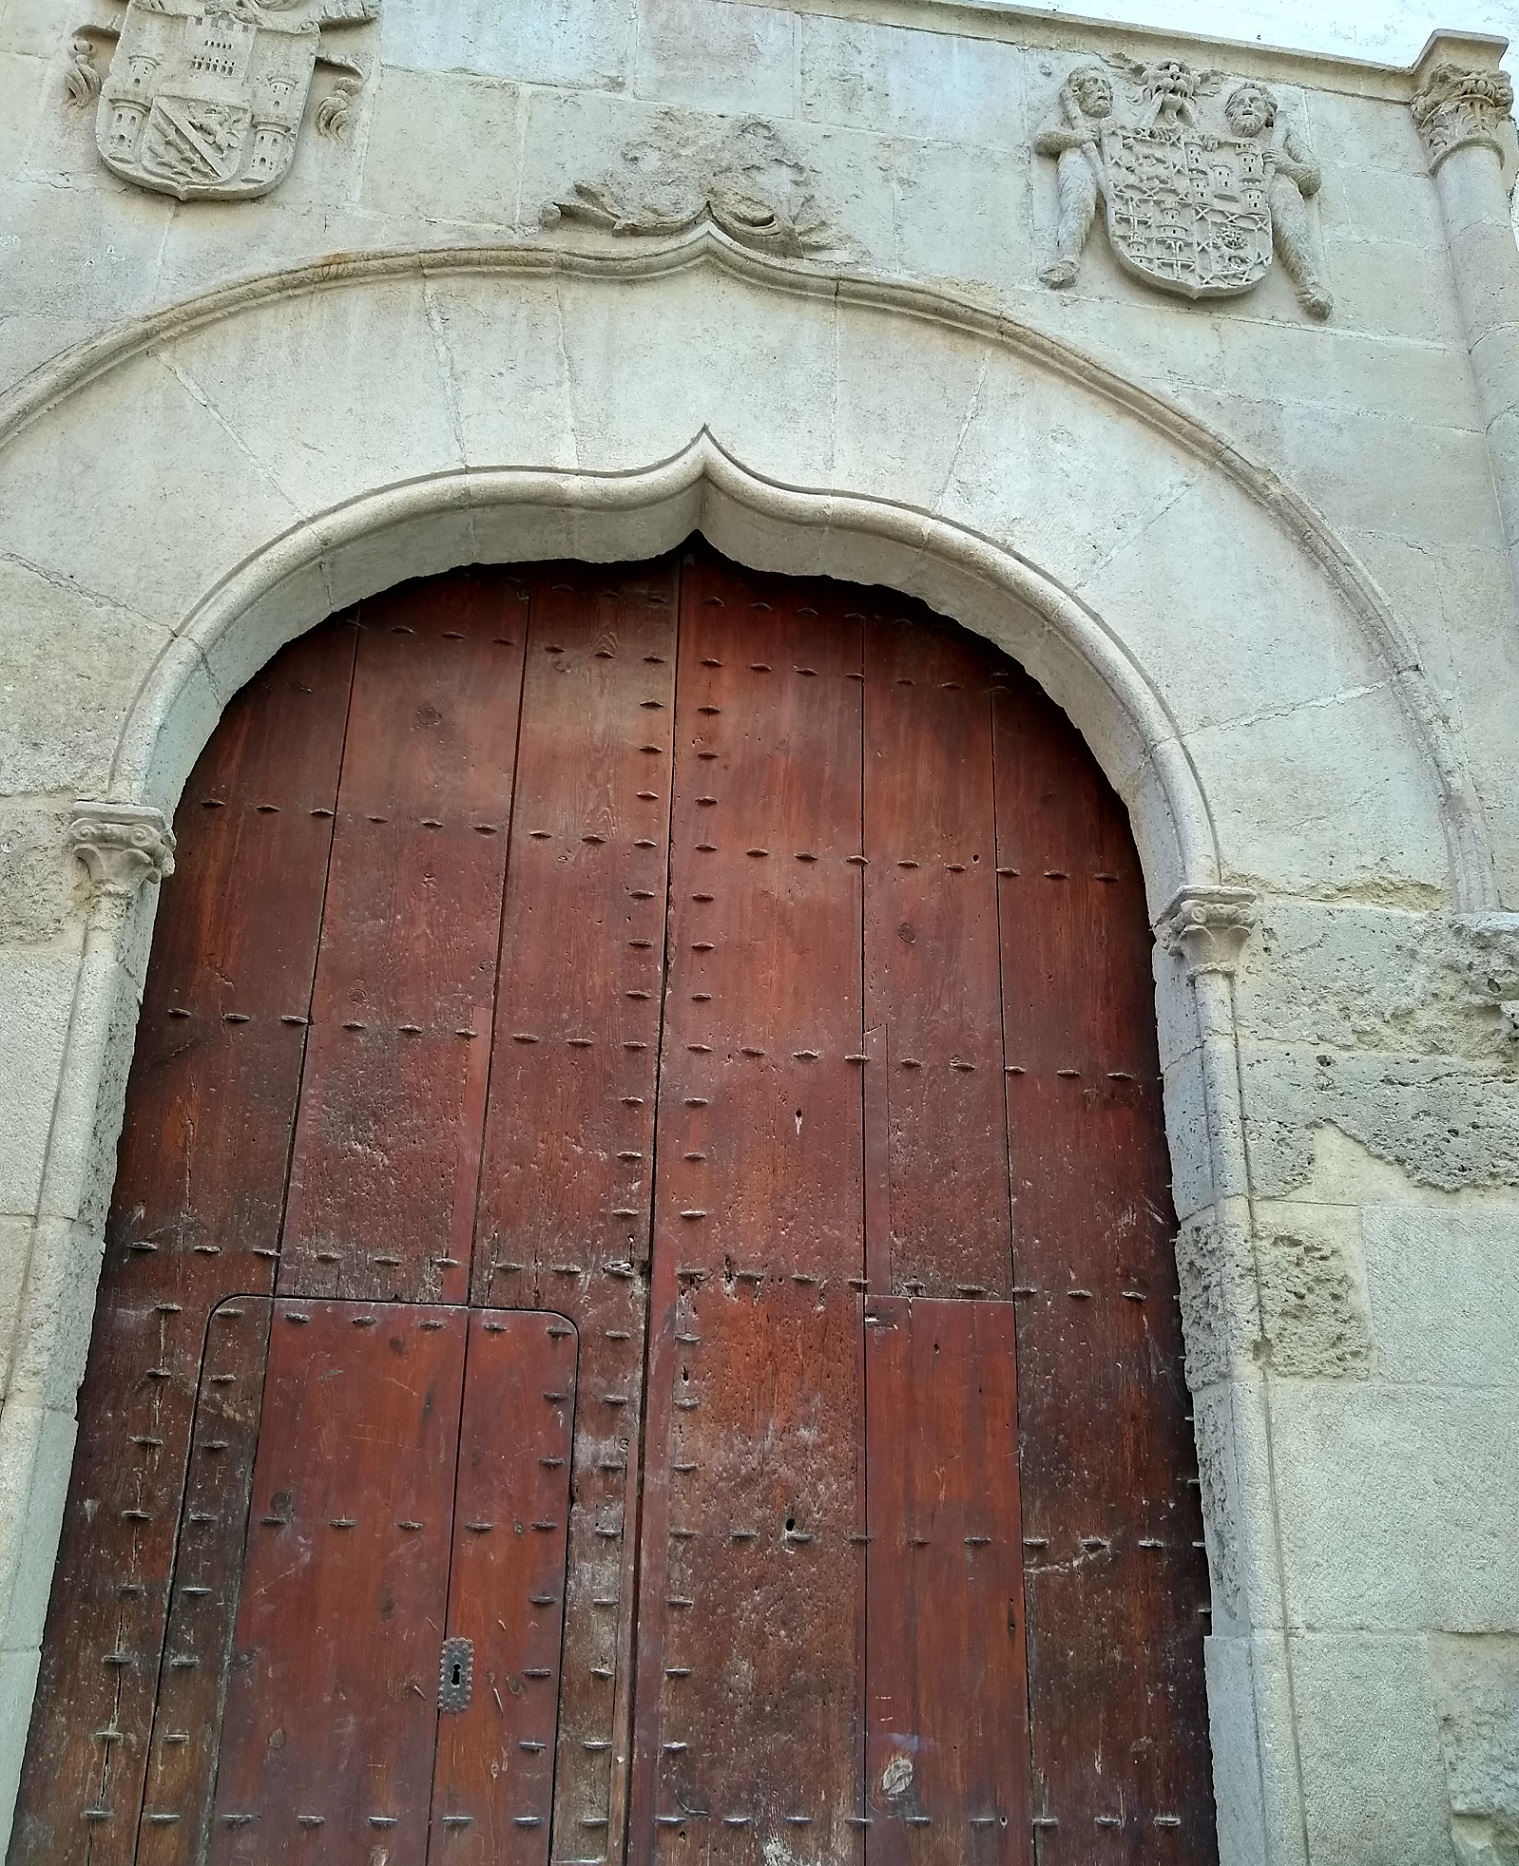arco-conopial: (108, 408, 1197, 721)
